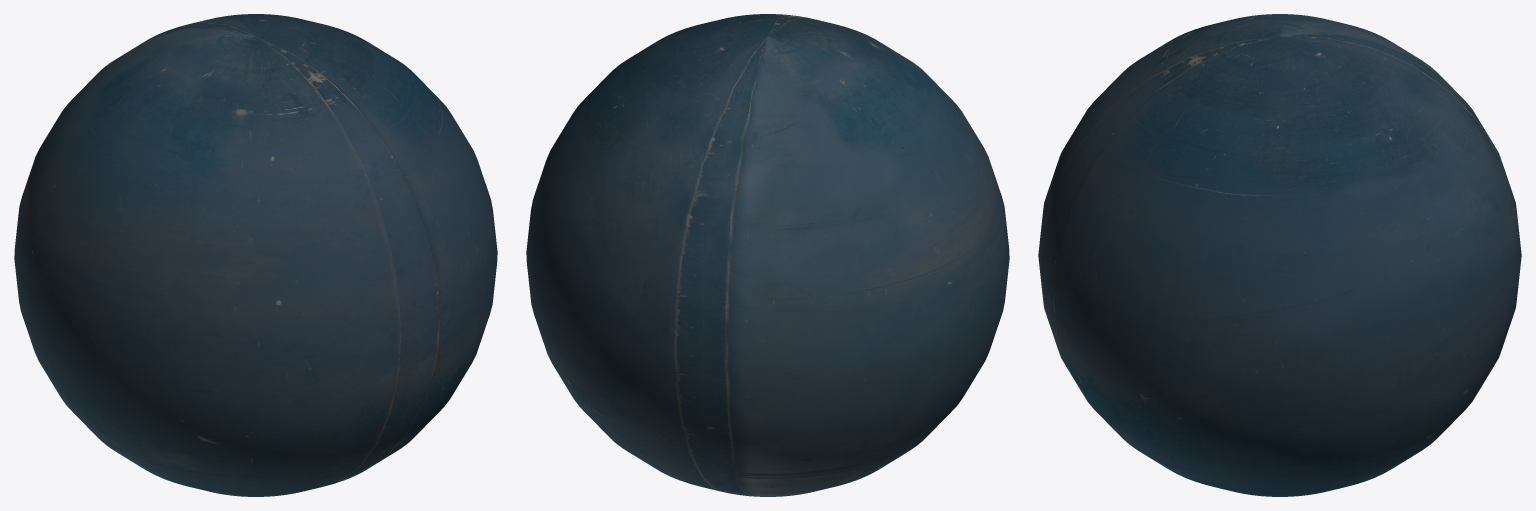
3 views of the same model, side by side, from view 1: azimuth 30°, elevation 25°; view 2: azimuth 150°, elevation 25°; view 3: azimuth 270°, elevation 25° (orthographic).
Visible parts, largest first — view 1: Sphere; view 2: Sphere; view 3: Sphere.
Boxes of the visible parts, <box> form: Sphere: <box>14,14,497,496</box>; Sphere: <box>526,14,1009,496</box>; Sphere: <box>1038,14,1521,496</box>.
Bounding box in the file's own units: 2 × 2 × 2.
1 material, 1 textured.
